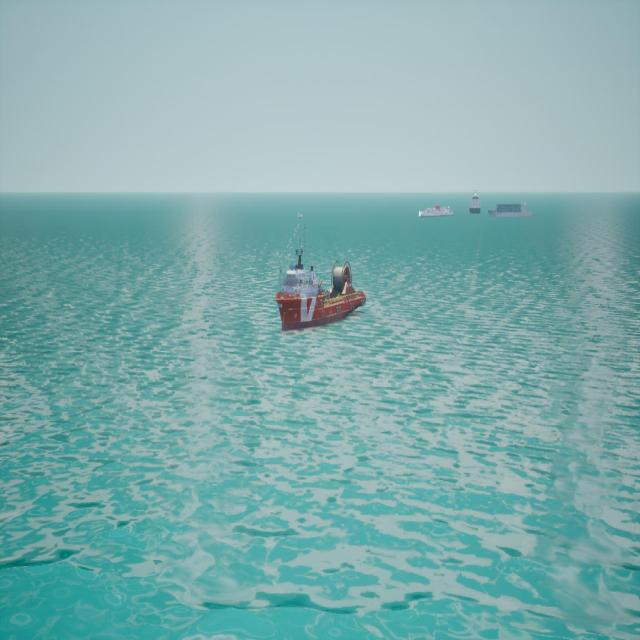tug boat: (276, 216, 367, 337)
